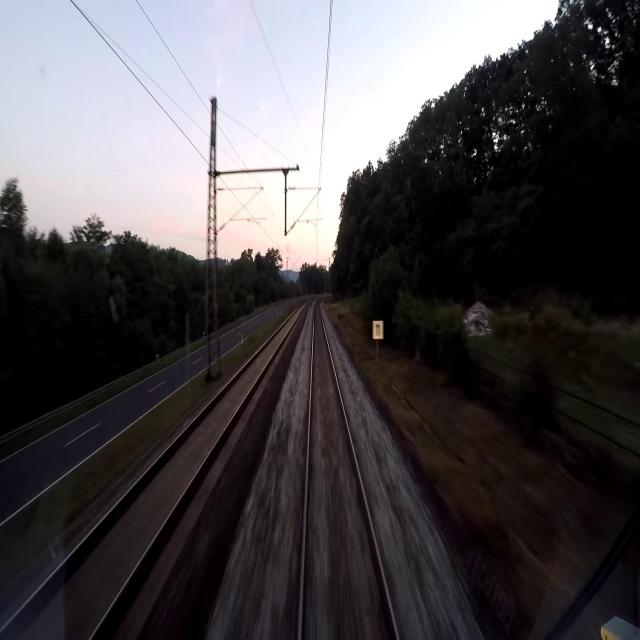rail-track: (0, 306, 302, 639), (301, 302, 395, 639)
